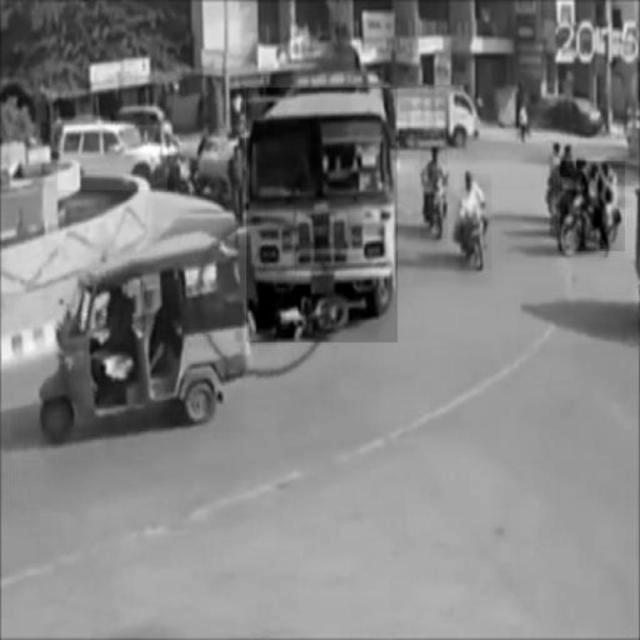accident: (247, 88, 398, 342)
vehicle: (42, 237, 246, 433), (58, 124, 168, 190), (560, 161, 624, 251), (460, 174, 490, 270), (421, 148, 448, 239)
